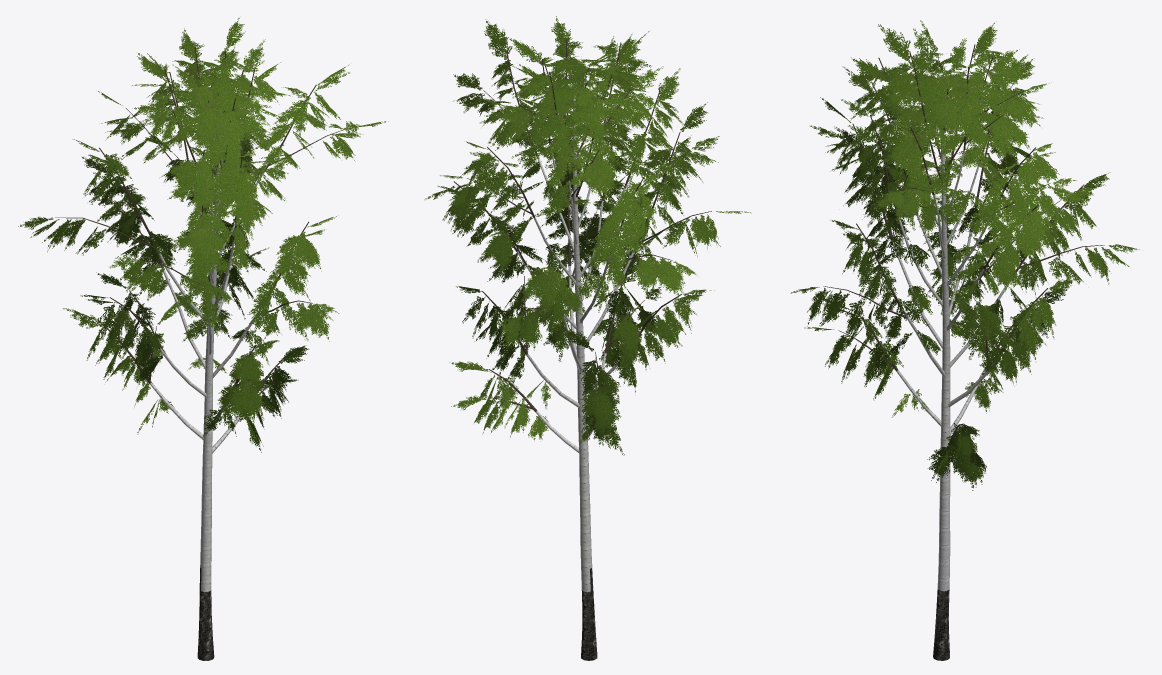
File: birch.glb
3 views of the same model, side by side, from view 1: azimuth 30°, elevation 25°; view 2: azimuth 150°, elevation 25°; view 3: azimuth 270°, elevation 25° (orthographic). The views are drawn at different scales.
Parts seen in each view (by area): view 1: birch; view 2: birch; view 3: birch.
Boxes of the visible parts, x1=… form: birch: x1=18, y1=18, x2=388, y2=660; birch: x1=424, y1=16, x2=751, y2=660; birch: x1=790, y1=20, x2=1139, y2=660.
Bounding box in the file's own units: 8.98 × 16.83 × 8.76.
4 materials, 3 textured.
